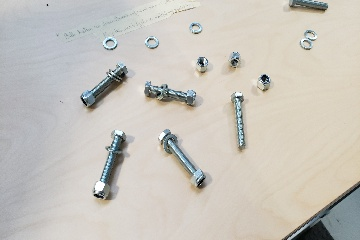Bolt: (231, 91, 248, 151)
FalseAssembly: (154, 127, 211, 193), (93, 127, 129, 201)
FinishedAssembly: (78, 61, 129, 112), (143, 79, 199, 110)
Nut: (227, 51, 243, 68), (256, 74, 272, 91), (195, 56, 210, 73)
Washer: (186, 20, 205, 35), (102, 36, 119, 51), (143, 35, 161, 49), (300, 38, 314, 52), (302, 28, 318, 40)
